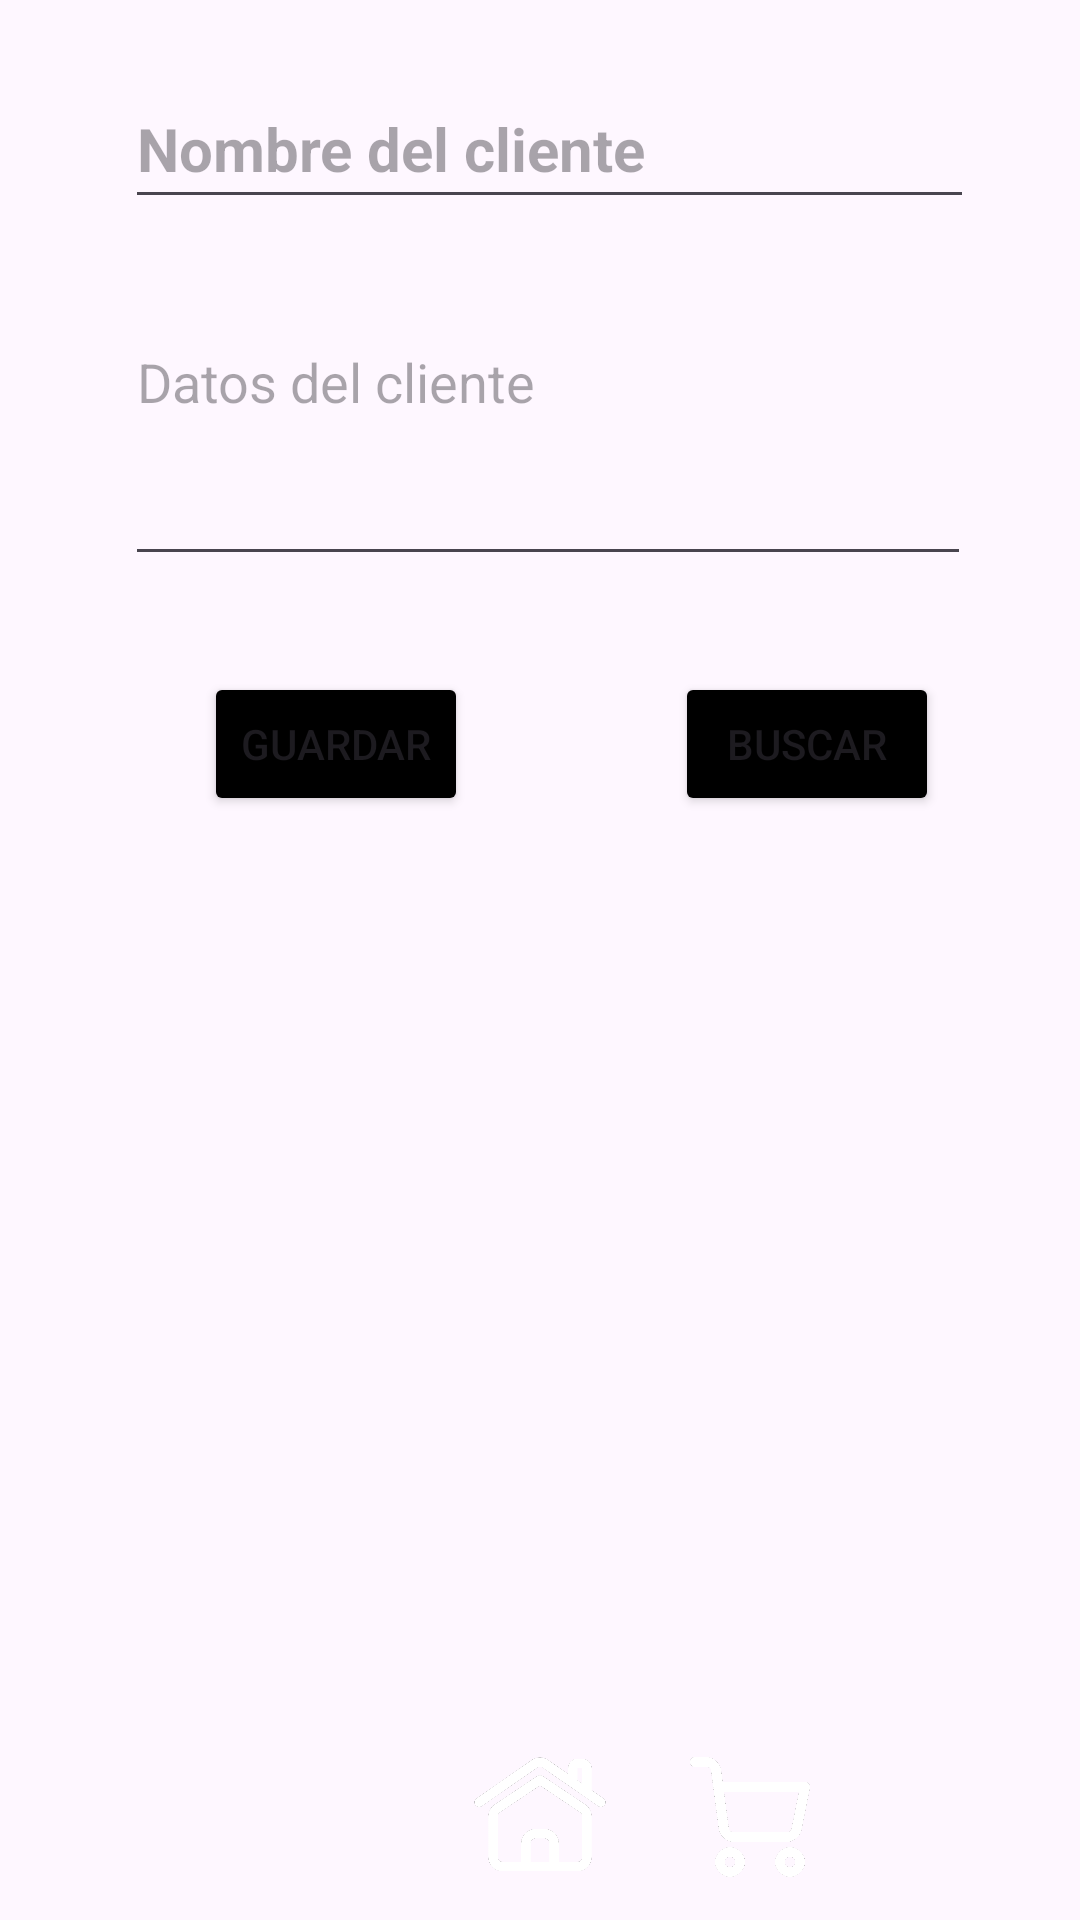

Where icons sit on this 1080×1920 app screen, as region(x1, y1, x2, y2):
carrito: region(691, 1758, 810, 1867)
home: region(474, 1757, 606, 1865)
